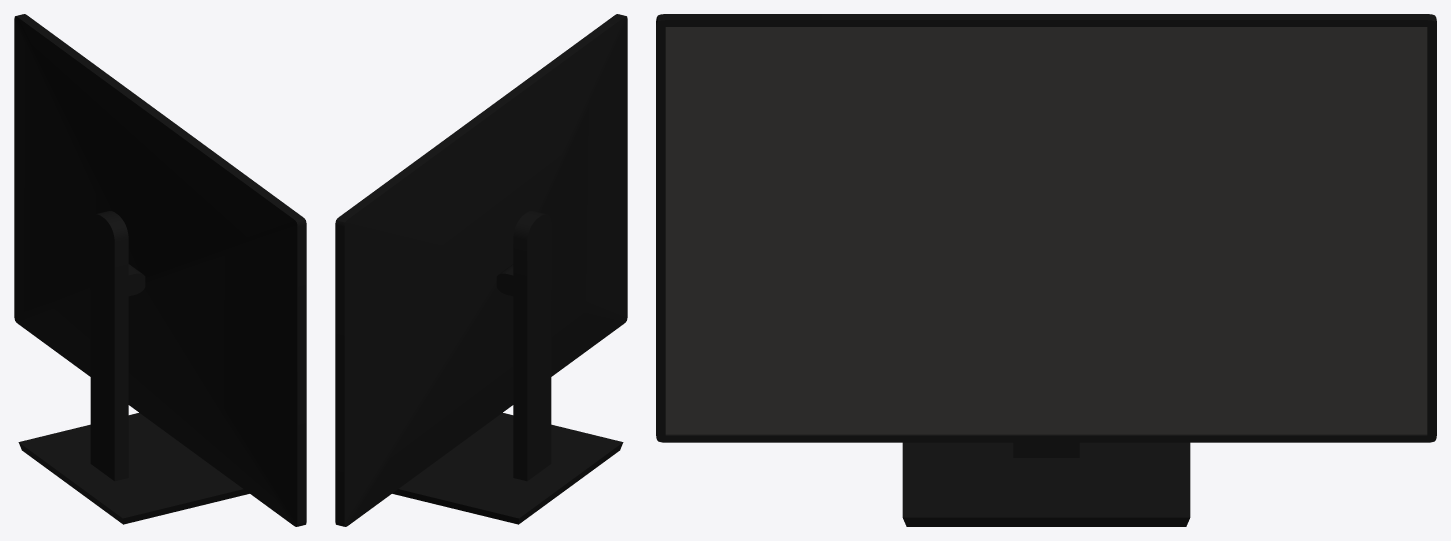
The model's file is Television.FBX.
3 renders of one model, left to right at view 1: azimuth 30°, elevation 25°; view 2: azimuth 150°, elevation 25°; view 3: azimuth 270°, elevation 25°, orthographic. The views are drawn at different scales.
Visible parts, largest first — view 1: Box001; view 2: Box001; view 3: Box001.
Boxes of the visible parts, <box> form: Box001: <box>14,14,306,526</box>; Box001: <box>335,14,627,526</box>; Box001: <box>656,14,1436,526</box>.
Size of the model in its own units: 21.24 by 52.59 by 77.36.
2 materials, 2 textured.
